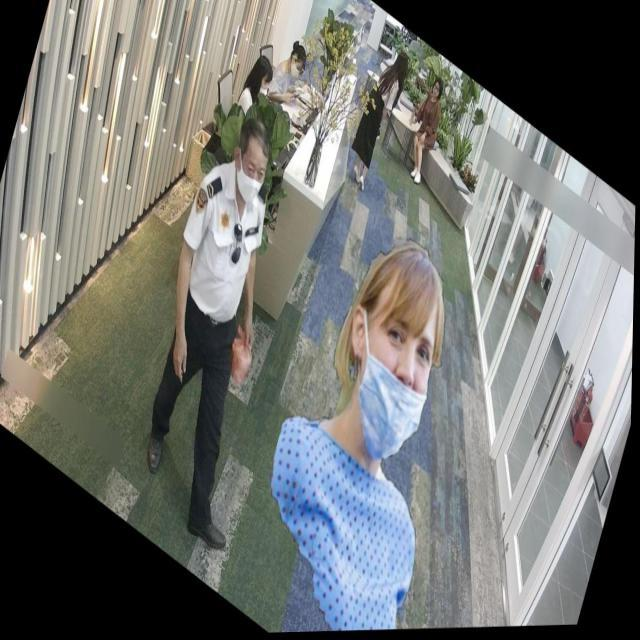hairnet: (344, 294, 446, 483)
